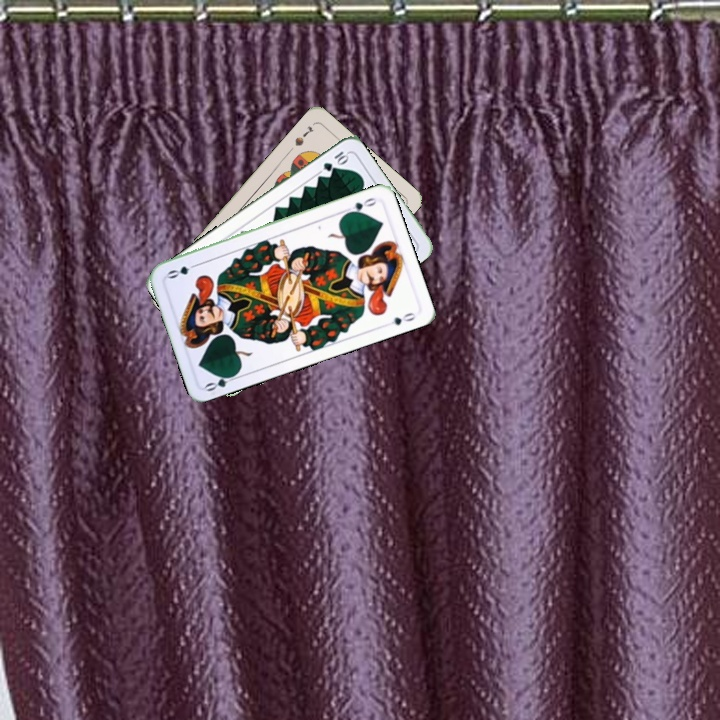G10: (319, 147, 351, 174)
GO: (201, 369, 241, 394), (340, 194, 380, 217)
S7: (291, 122, 317, 149)
